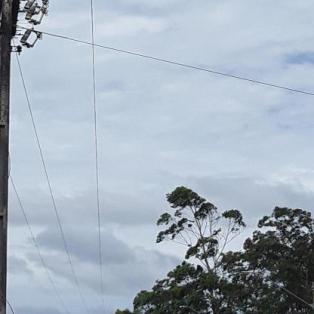Poste: (0, 0, 30, 314)
